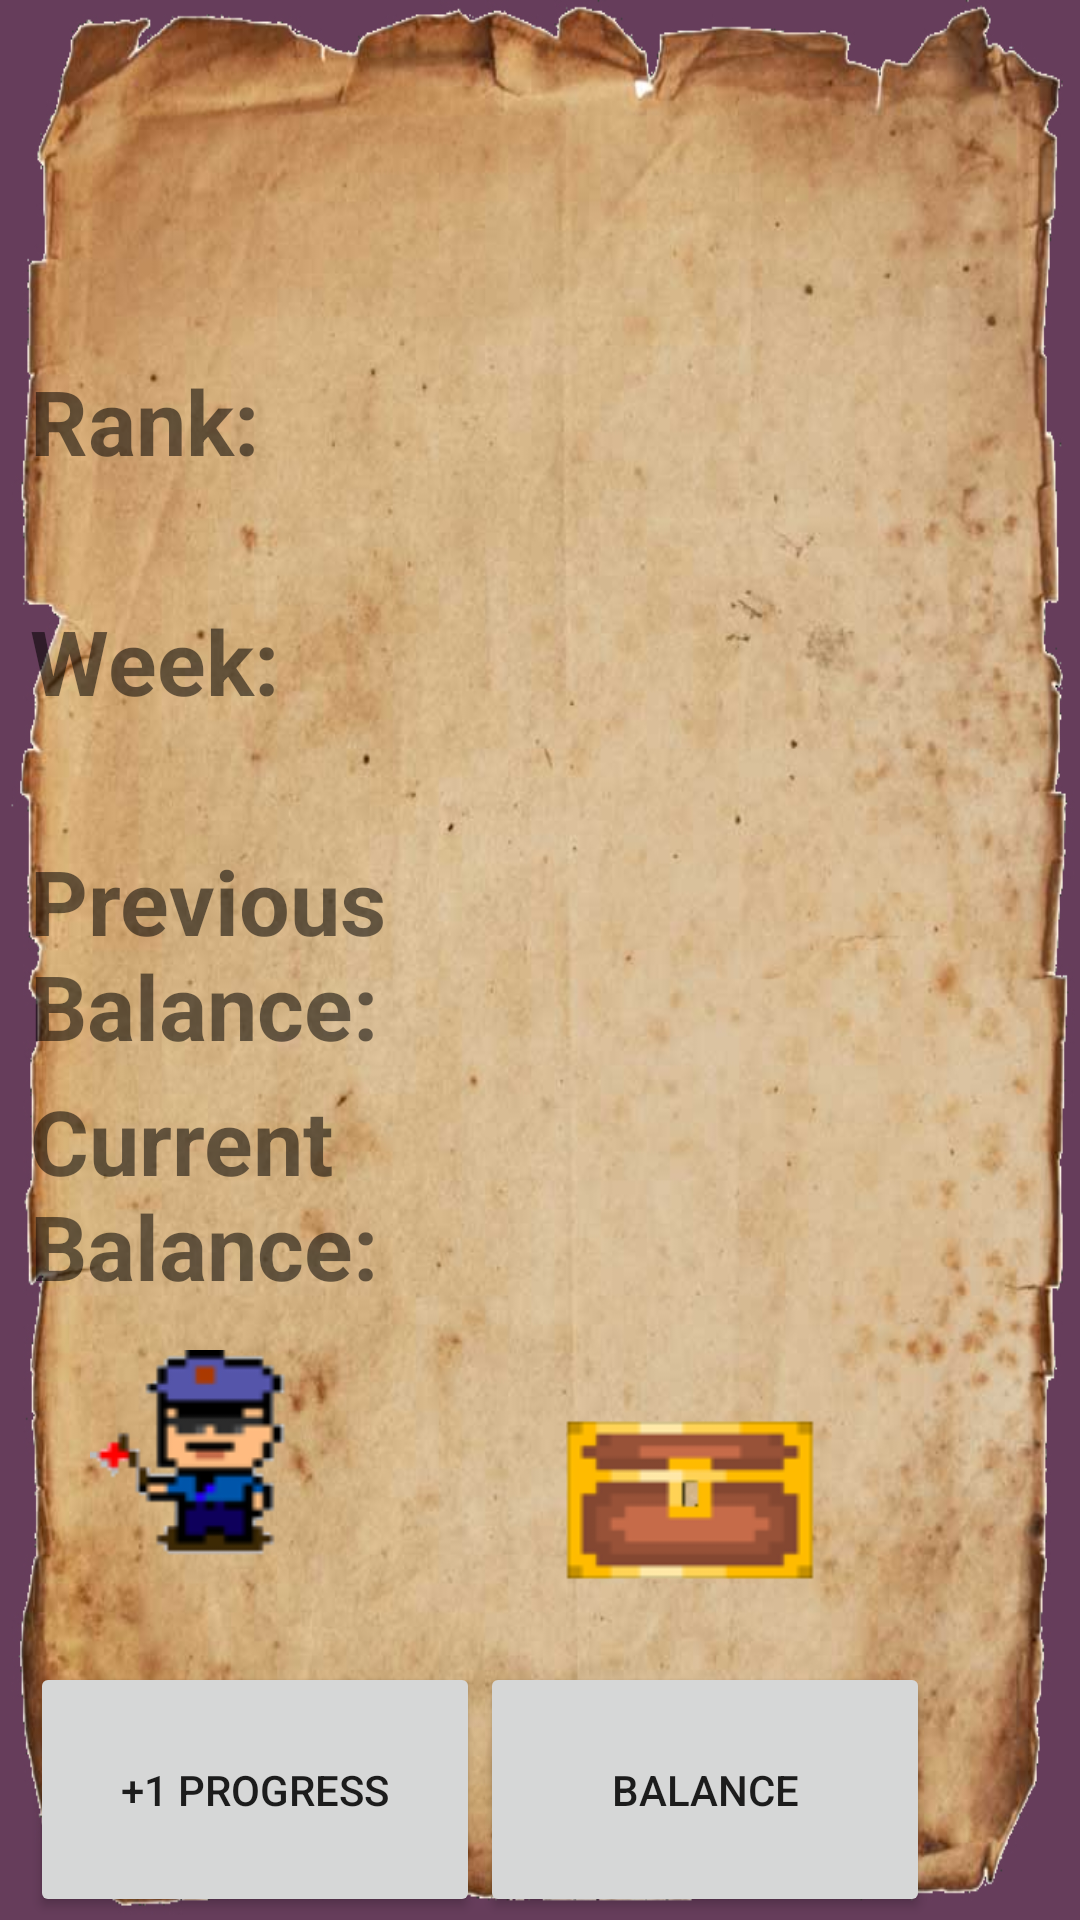

Where icons sit on this 1080px x 1920px app screen, as (x1, y1, x2, y2):
policeman: (90, 1350, 330, 1560)
treasure: (563, 1350, 870, 1650)
